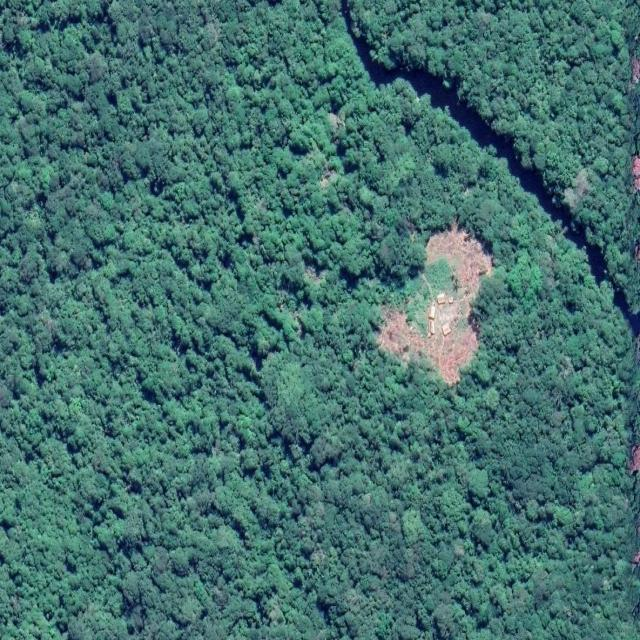noVegetation: (380, 227, 492, 385)
vegetation: (0, 4, 531, 637), (349, 0, 640, 313)
